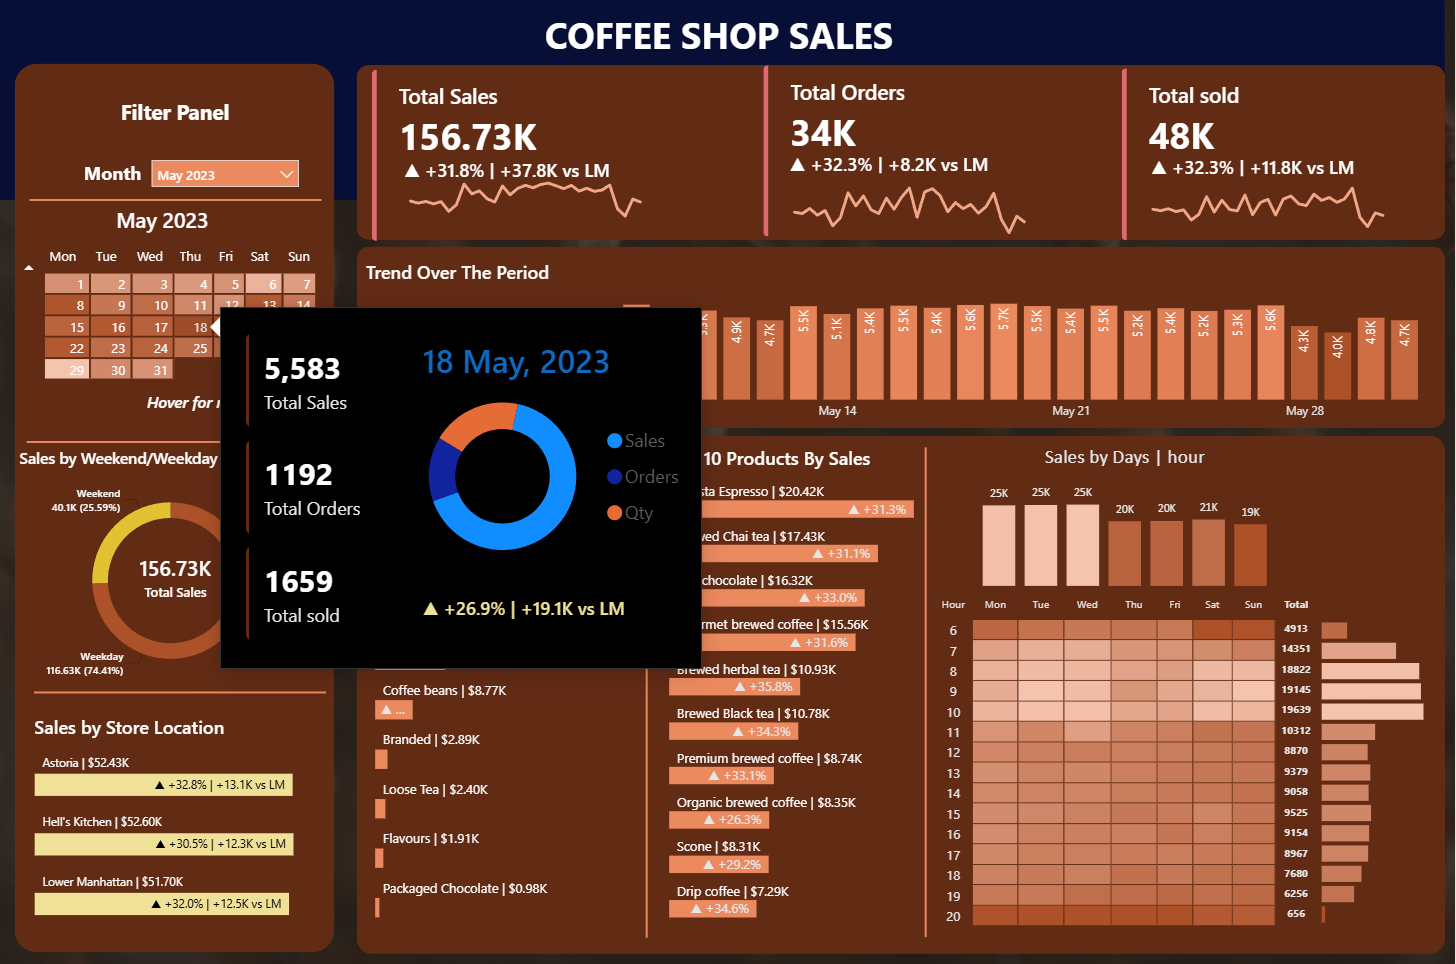

The dashboard page shown, as its layout file describes it:
{"tool":"powerbi","page":{"name":"dashbord","canvas":[1500,1000],"ordinal":0},"visuals":[{"type":"shape","box":[0,0,1488.3,206.7],"z":0},{"type":"shape","box":[17.7,66.3,329.2,914.6],"z":1000},{"type":"shape","box":[368.3,68.3,1120,180],"z":2000},{"type":"cardVisual","fields":{"Data":["Measure.Total Sales"]},"box":[366.7,55,333.3,210],"z":3000},{"type":"slicer","fields":{"Values":["DimDate.Month"]},"box":[148.9,155.6,171.1,48.9],"z":4000},{"type":"cardVisual","fields":{"Data":["Measure.MoM growth"]},"box":[388.3,146.7,345,56.7],"z":5000},{"type":"lineChart","fields":{"Y":["Measure.Total Sales"],"Category":["DimDate.Date.Variation.Date Hierarchy.Year","DimDate.Date.Variation.Date Hierarchy.Quarter","DimDate.Date.Variation.Date Hierarchy.Month","DimDate.Date.Variation.Date Hierarchy.Day"]},"box":[408.3,168.3,266.7,80],"z":6000},{"type":"cardVisual","fields":{"Data":["Measure.Total Orders"]},"box":[770,51.7,335,210],"z":7000},{"type":"cardVisual","fields":{"Data":["Measure.Total sold"]},"box":[1138.3,53.3,335,211.7],"z":8000},{"type":"cardVisual","fields":{"Data":["Measure.MoM growth sorder"]},"box":[785.2,140,345.5,56.3],"z":9000},{"type":"lineChart","fields":{"Y":["Measure.Total Orders"],"Category":["DimDate.Date.Variation.Date Hierarchy.Year","DimDate.Date.Variation.Date Hierarchy.Quarter","DimDate.Date.Variation.Date Hierarchy.Month","DimDate.Date.Variation.Date Hierarchy.Day"]},"box":[804,168.2,266.6,78.9],"z":10000},{"type":"cardVisual","fields":{"Data":["Measure.MoM growth qty sold"]},"box":[1156.7,143.3,306.7,56.7],"z":11000},{"type":"lineChart","fields":{"Y":["Measure.Total sold"],"Category":["DimDate.Date.Variation.Date Hierarchy.Year","DimDate.Date.Variation.Date Hierarchy.Quarter","DimDate.Date.Variation.Date Hierarchy.Month","DimDate.Date.Variation.Date Hierarchy.Day"]},"box":[1173.3,166.7,266.7,78.3],"z":12000},{"type":"pivotTable","fields":{"Columns":["DimDate.Day name"],"Rows":["DimDate.Week number"],"Values":["Sum(DimDate.Day number)"]},"box":[17.2,248.4,315.5,169],"z":13000},{"type":"cardVisual","fields":{"Data":["Min(DimDate.Month)"]},"box":[92.3,190.2,165.2,71.4],"z":14000},{"type":"textbox","box":[148.6,398.7,184,39.4],"z":15000},{"type":"shape","box":[32.2,184.6,300.4,43.2],"z":16000},{"type":"donutChart","title":"Sales by Weekend/Weekday","fields":{"Category":["DimDate.Weekend/Weekday"],"Y":["Measure.Total Sales"]},"box":[17.7,461.7,320.3,251.8],"z":17000},{"type":"cardVisual","fields":{"Data":["Measure.Total Sales"]},"box":[106,550.1,152.4,90.6],"z":18000},{"type":"shape","box":[28.7,433,300.4,44.2],"z":19000},{"type":"shape","box":[37.6,691.5,300.4,44.2],"z":20000},{"type":"clusteredBarChart","title":"Sales by Store Location","fields":{"Category":["Transactions.store_location"],"Y":["Measure.Placeholder","Measure.Total Sales"]},"box":[33.1,735.7,313.7,214.3],"z":21000},{"type":"shape","box":[368.3,255,1120,186.7],"z":22000},{"type":"columnChart","title":"Trend Over The Period","fields":{"Category":["Transactions.transaction_date"],"Y":["Measure.Total Sales"]},"box":[373.3,268.3,1100,173.3],"z":23000},{"type":"shape","box":[368.3,448.3,1120,533.3],"z":24000},{"type":"clusteredBarChart","title":"Sales by Product Category","fields":{"Y":["Measure.Placeholder","Measure.Total Sales"],"Category":["Transactions.product_category"]},"box":[382.2,459.5,318.1,490.4],"z":25000},{"type":"textbox","box":[545.7,6.6,391,68.5],"z":26000},{"type":"shape","box":[649.5,459.5,35.3,505.9],"z":27000},{"type":"clusteredBarChart","title":"Top 10 Products By Sales","fields":{"Y":["Measure.Placeholder","Measure.Total Sales"],"Category":["Transactions.product_type"]},"box":[684.8,459.5,318.1,490.4],"z":28000},{"type":"shape","box":[936.7,461.7,35.3,503.7],"z":29000},{"type":"textbox","box":[68.9,160,96.7,35.6],"z":30000},{"type":"pivotTable","fields":{"Rows":["Transactions.Hour"],"Columns":["DimDate.Day name"],"Values":["Measure.Total Sales"]},"box":[957.8,610,407.8,355.6],"z":31000},{"type":"barChart","fields":{"Category":["Transactions.Hour"],"Y":["Measure.Total Sales"]},"box":[1356.7,628.3,116.7,326.7],"z":32000},{"type":"columnChart","title":"Sales by Days | hour","fields":{"Category":["DimDate.Day name"],"Y":["Measure.Total Sales"]},"box":[1007.8,458.9,303.3,151.1],"z":33000},{"type":"textbox","box":[80,96.2,203.8,53.8],"z":34000}]}

Visuals, with their boxes in screenshot pixels (x1, y1, x2, y2), scaled from the page's 1500x1000 canvas onto the 1456x964 screenshot:
shape: box(0, 0, 1445, 199)
shape: box(17, 64, 337, 946)
shape: box(357, 66, 1445, 239)
cardVisual - Measure.Total Sales: box(356, 53, 679, 255)
slicer - DimDate.Month: box(145, 150, 311, 197)
cardVisual - Measure.MoM growth: box(377, 141, 712, 196)
lineChart - Measure.Total Sales x DimDate.Date.Variation.Date Hierarchy.Year: box(396, 162, 655, 239)
cardVisual - Measure.Total Orders: box(747, 50, 1073, 252)
cardVisual - Measure.Total sold: box(1105, 51, 1430, 255)
cardVisual - Measure.MoM growth sorder: box(762, 135, 1098, 189)
lineChart - Measure.Total Orders x DimDate.Date.Variation.Date Hierarchy.Year: box(780, 162, 1039, 238)
cardVisual - Measure.MoM growth qty sold: box(1123, 138, 1420, 193)
lineChart - Measure.Total sold x DimDate.Date.Variation.Date Hierarchy.Year: box(1139, 161, 1398, 236)
pivotTable - DimDate.Day name x DimDate.Week number: box(17, 239, 323, 402)
cardVisual - Min(DimDate.Month): box(90, 183, 250, 252)
textbox: box(144, 384, 323, 422)
shape: box(31, 178, 323, 220)
"Sales by Weekend/Weekday" donutChart: box(17, 445, 328, 688)
cardVisual - Measure.Total Sales: box(103, 530, 251, 618)
shape: box(28, 417, 319, 460)
shape: box(36, 667, 328, 709)
"Sales by Store Location" clusteredBarChart: box(32, 709, 337, 916)
shape: box(357, 246, 1445, 426)
"Trend Over The Period" columnChart: box(362, 259, 1430, 426)
shape: box(357, 432, 1445, 946)
"Sales by Product Category" clusteredBarChart: box(371, 443, 680, 916)
textbox: box(530, 6, 909, 72)
shape: box(630, 443, 665, 931)
"Top 10 Products By Sales" clusteredBarChart: box(665, 443, 973, 916)
shape: box(909, 445, 943, 931)
textbox: box(67, 154, 161, 189)
pivotTable - Transactions.Hour x DimDate.Day name: box(930, 588, 1326, 931)
barChart - Transactions.Hour x Measure.Total Sales: box(1317, 606, 1430, 921)
"Sales by Days | hour" columnChart: box(978, 442, 1273, 588)
textbox: box(78, 93, 275, 145)
